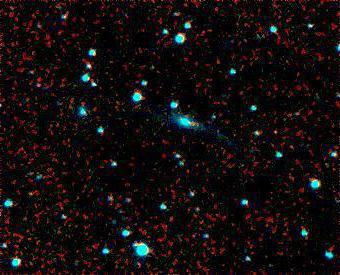star: (261, 106, 291, 136)
